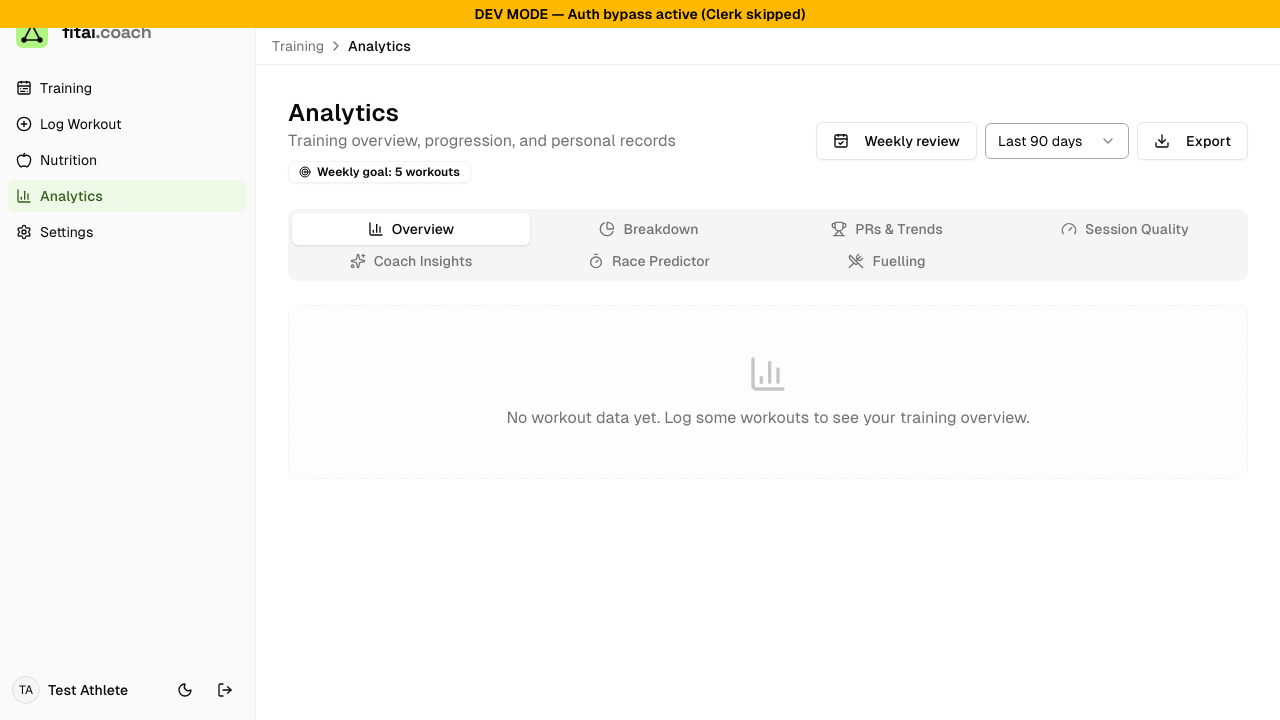
Scenario: Analytics Page › empty state › shows no personal records message when empty
The width and height of the screenshot is (1280, 720).
Click the tab with test id "tab-progress" at x=887, y=229, box [768, 213, 1006, 245]
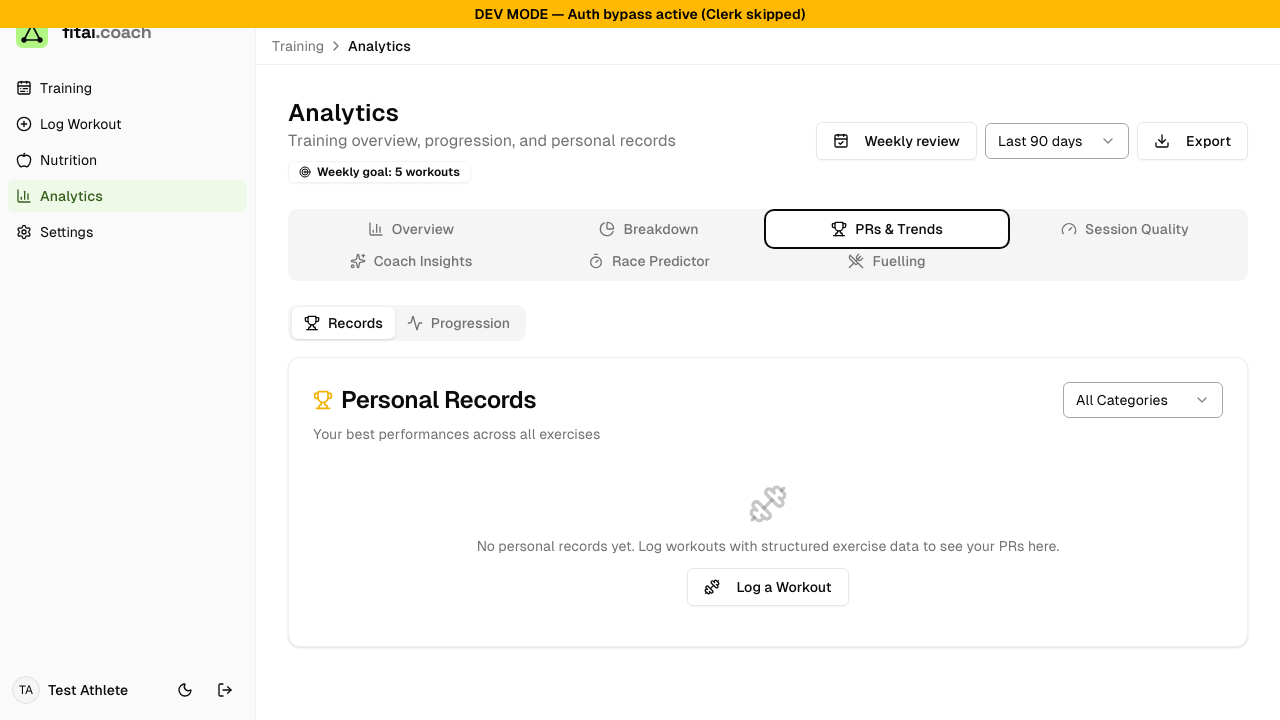
Check: the element with test id "text-no-prs" is shown, box [477, 484, 1060, 606]
